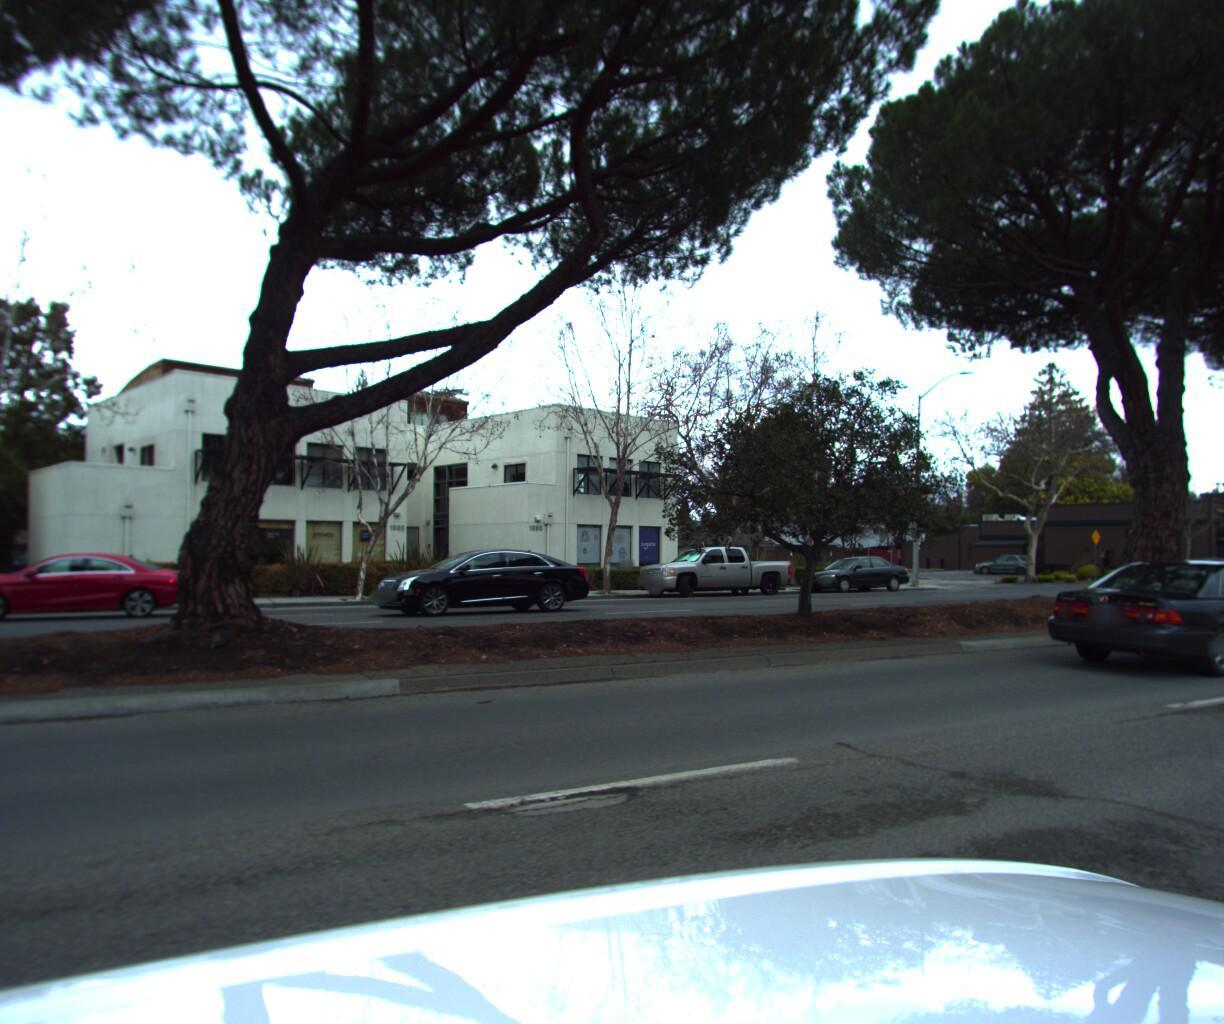car: (1026, 557, 1224, 681), (354, 537, 598, 615), (0, 547, 211, 626), (628, 541, 793, 600), (790, 551, 910, 594)
